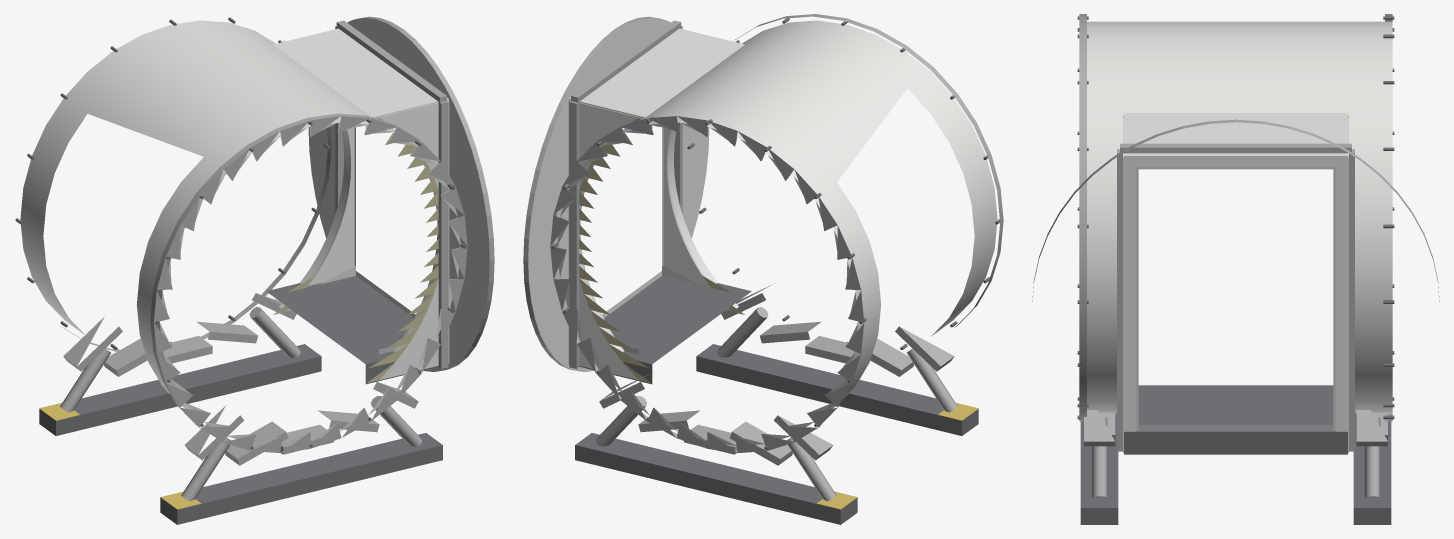
File: habSegJR_steel.glb
3 views of the same model, side by side, from view 1: azimuth 30°, elevation 25°; view 2: azimuth 150°, elevation 25°; view 3: azimuth 270°, elevation 25° (orthographic). The views are drawn at different scales.
Visible parts, largest first — view 1: habSegJR_steel; view 2: habSegJR_steel; view 3: habSegJR_steel.
Boxes of the visible parts, box(x1,y1,x2,y2) form: habSegJR_steel: box(15, 16, 494, 524); habSegJR_steel: box(523, 14, 1003, 524); habSegJR_steel: box(1032, 14, 1439, 524).
Size of the model in its own units: 2.65 by 2.95 by 2.6.
